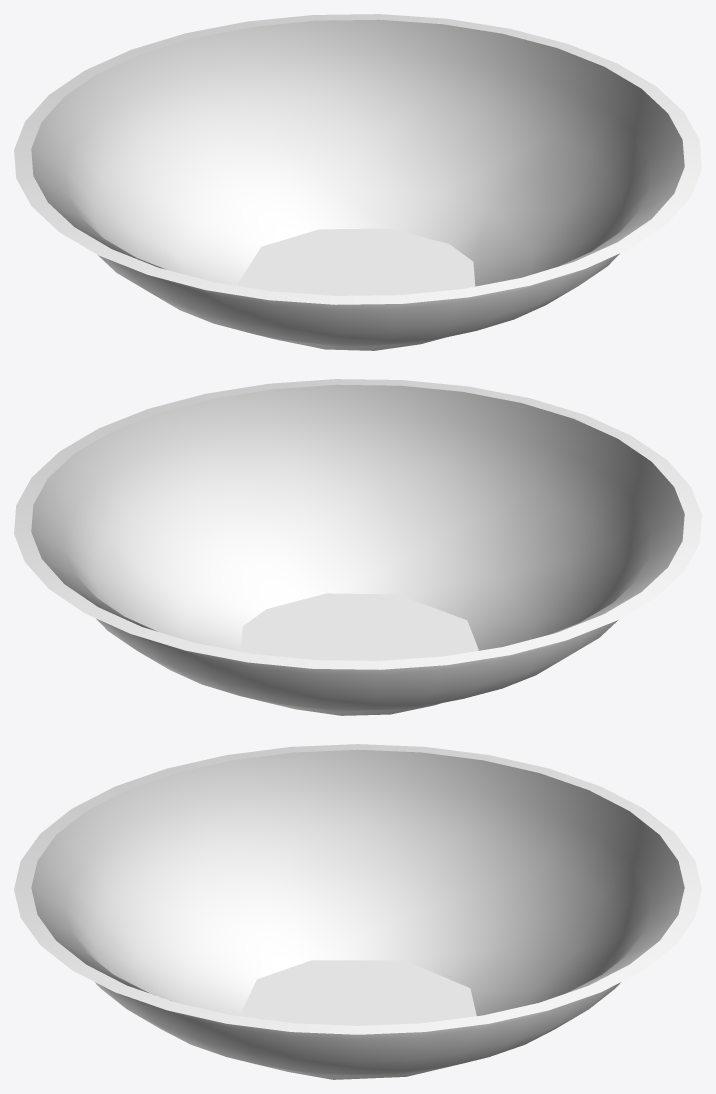
Rendered from Vase 4.FBX.
3 views of the same model, one above another, from view 1: azimuth 30°, elevation 25°; view 2: azimuth 150°, elevation 25°; view 3: azimuth 270°, elevation 25° (orthographic).
Visible parts, largest first — view 1: vase 4; view 2: vase 4; view 3: vase 4.
Boxes of the visible parts, <box> form: vase 4: <box>14,14,701,350</box>; vase 4: <box>14,379,701,715</box>; vase 4: <box>14,744,701,1079</box>.
Bounding box in the file's own units: 32.78 × 7.35 × 32.78.
Materials: 1 (1 with a texture image).
